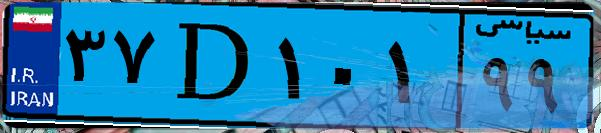0: (330, 28, 385, 110)
1: (270, 28, 330, 110), (385, 28, 445, 110)
3: (57, 26, 110, 100)
7: (110, 28, 158, 98)
9: (475, 38, 525, 113), (525, 38, 570, 115)
D: (158, 12, 270, 120)
